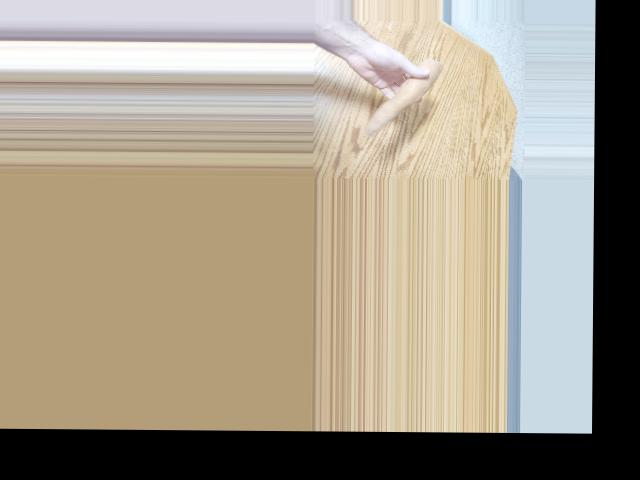sweet_potato: (366, 57, 439, 135)
